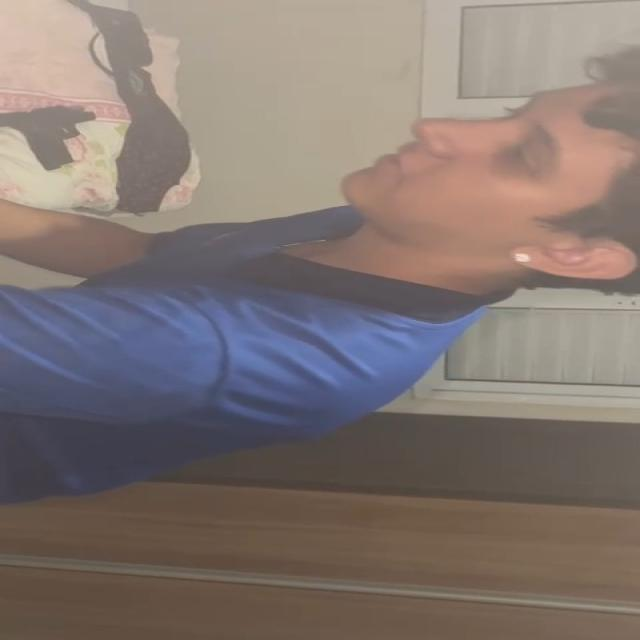gun: (0, 104, 100, 170)
